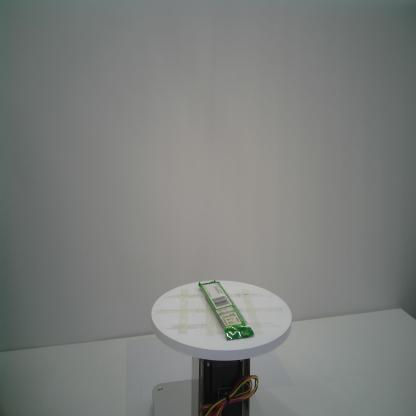Chocolate: (198, 278, 254, 340)
